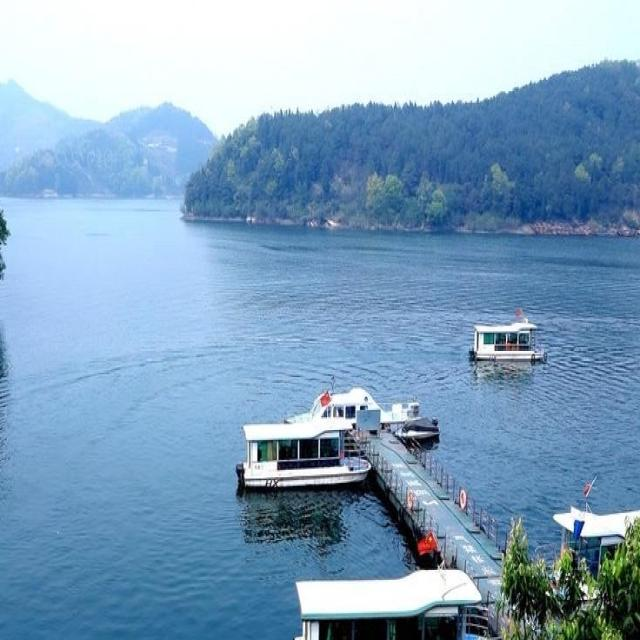houseboat: (238, 412, 358, 489), (475, 310, 553, 372)
